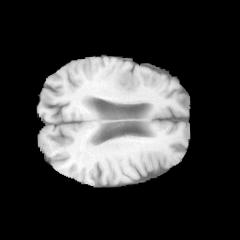glioma: (115, 69, 139, 95)
